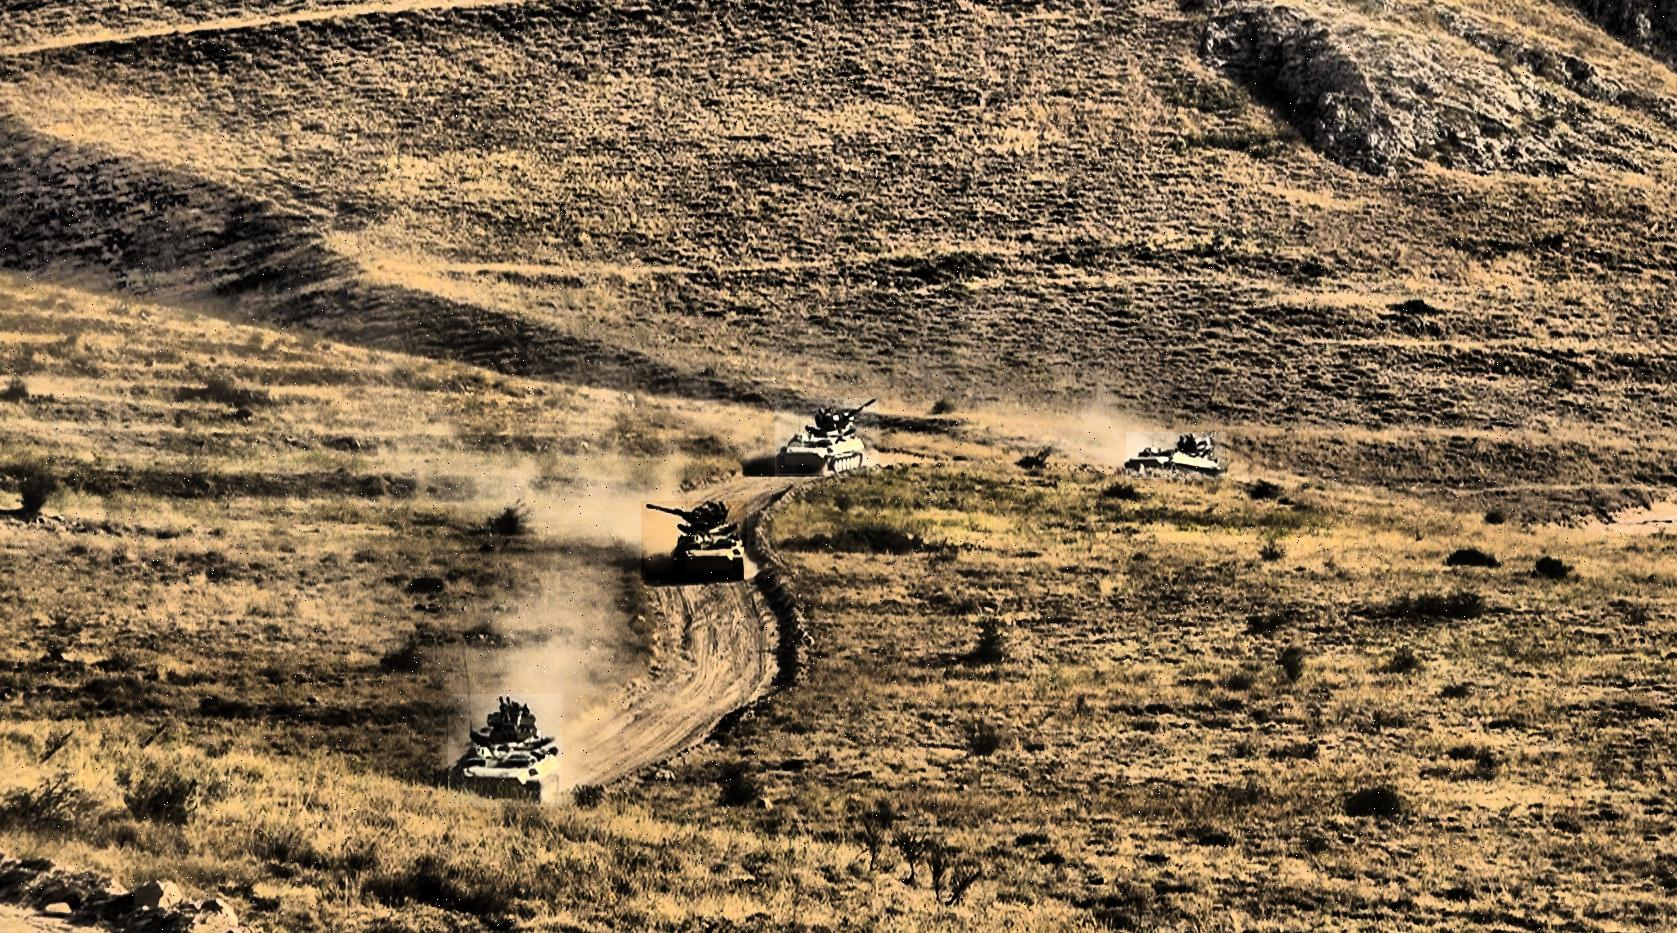military-vehicle: (449, 694, 563, 807), (641, 501, 747, 580), (776, 399, 880, 476), (1127, 433, 1226, 480)
